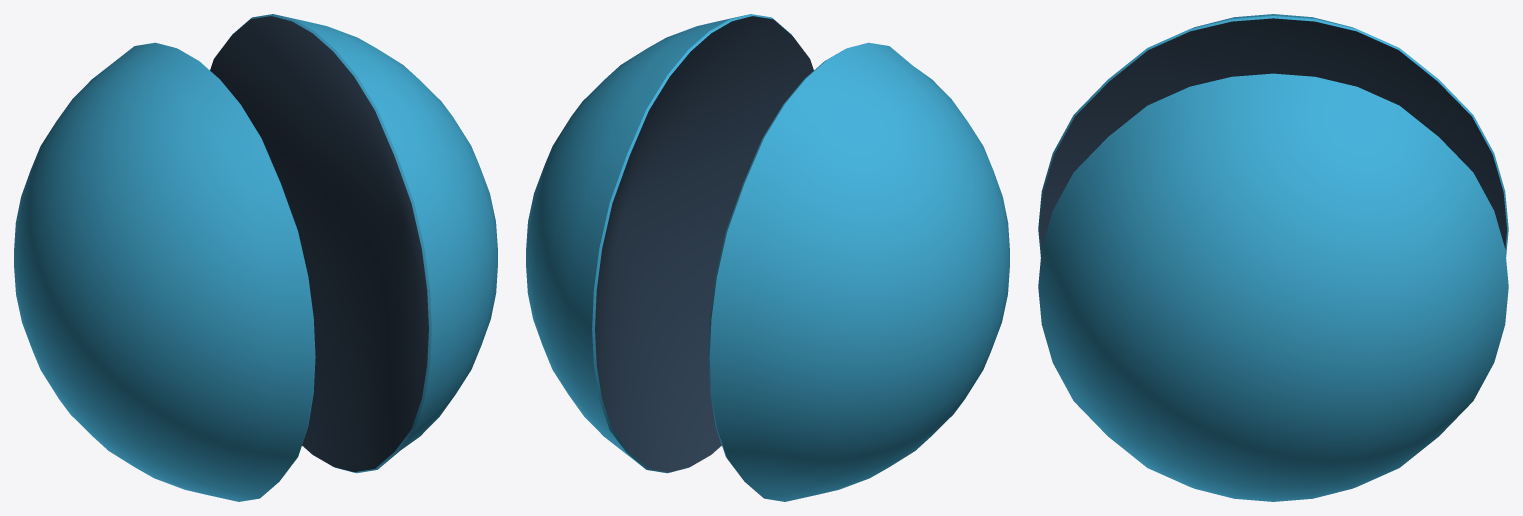
The model's file is robot_head.glb.
3 views of the same model, side by side, from view 1: azimuth 30°, elevation 25°; view 2: azimuth 150°, elevation 25°; view 3: azimuth 270°, elevation 25° (orthographic).
Parts seen in each view (by area): view 1: Head; view 2: Head; view 3: Head.
Boxes of the visible parts, bbox=[...] form: Head: bbox=[14, 14, 497, 501]; Head: bbox=[526, 14, 1009, 501]; Head: bbox=[1038, 14, 1508, 501].
Size of the model in its own units: 0.2022 by 0.195 by 0.195.
